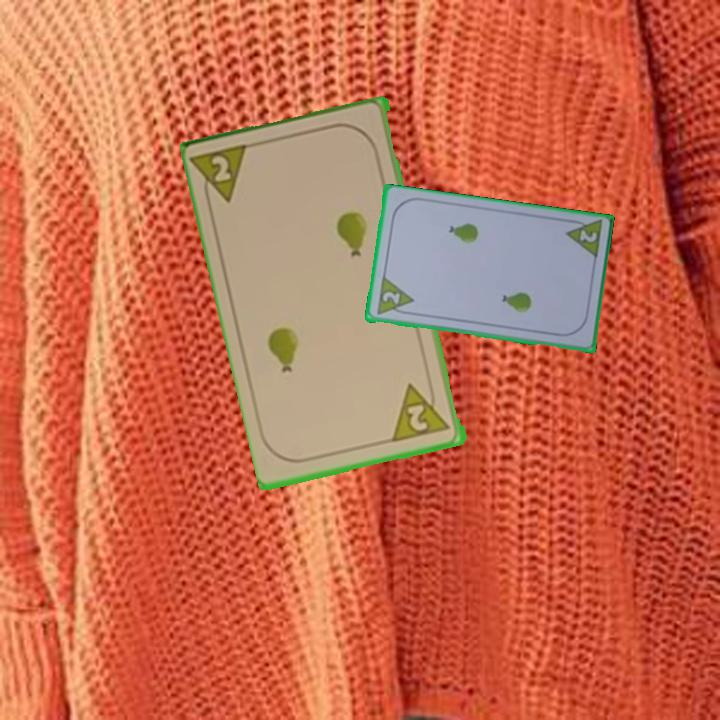2p: (190, 140, 255, 212), (390, 377, 455, 445), (562, 216, 605, 262), (373, 274, 416, 318)
